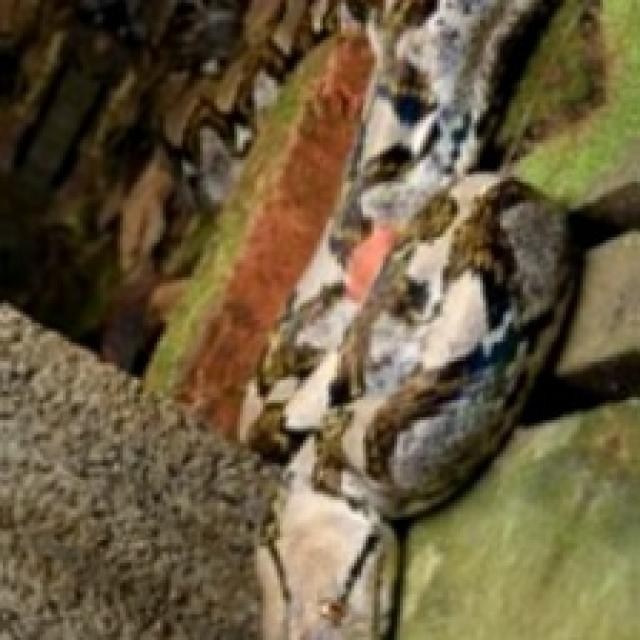reticulated python: (240, 0, 581, 639)
